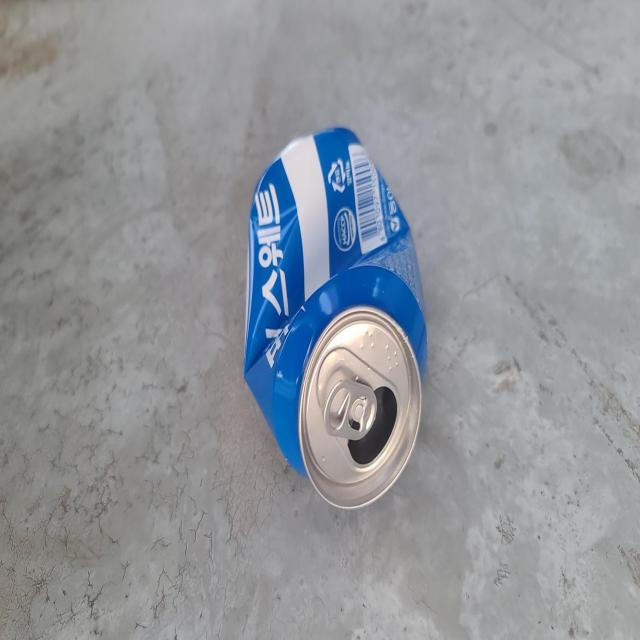can: (245, 127, 428, 508)
